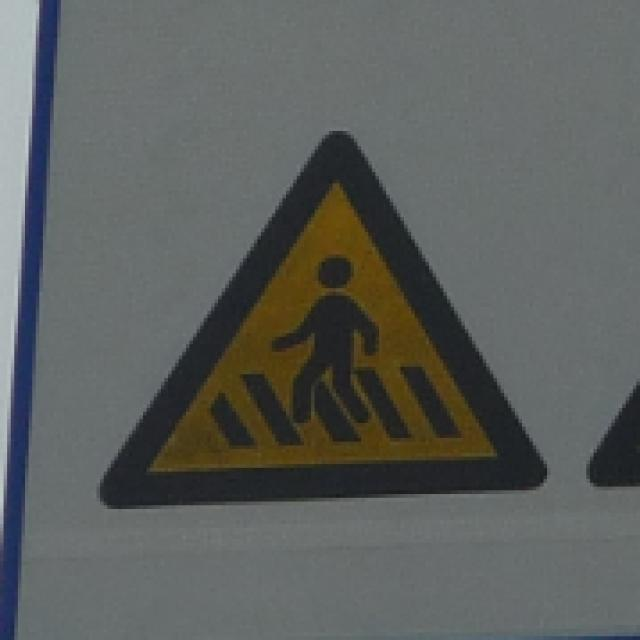Crossing: (86, 114, 554, 521)
